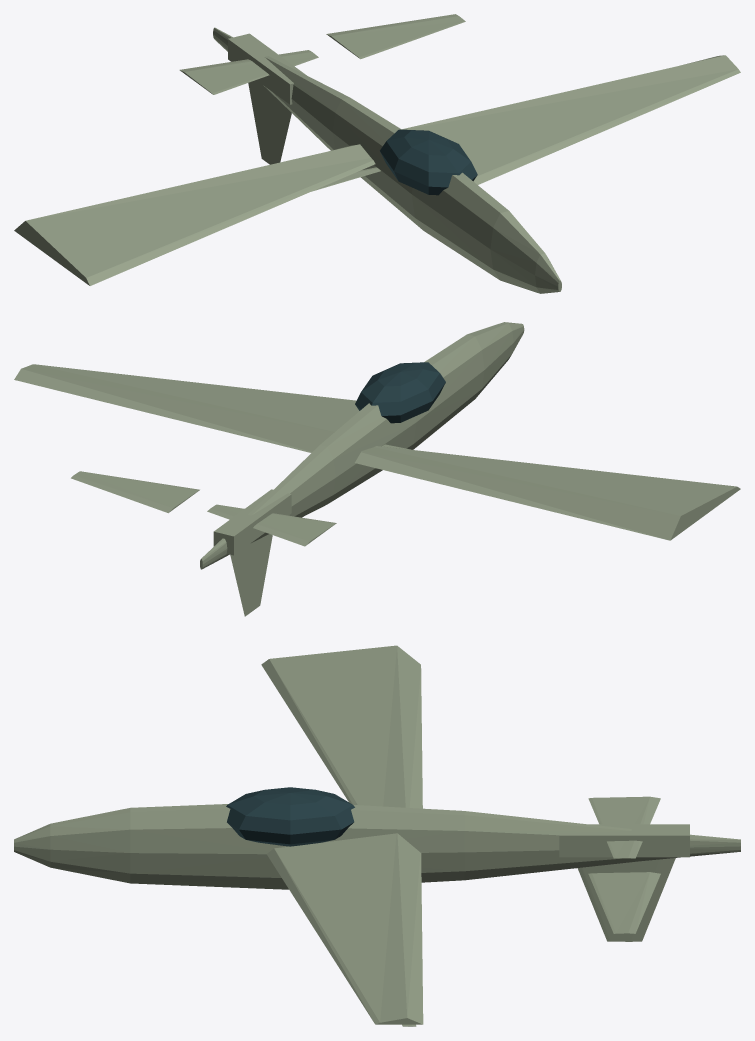
3 renders of one model, top to bottom at view 1: azimuth 30°, elevation 25°; view 2: azimuth 150°, elevation 25°; view 3: azimuth 270°, elevation 25°, orthographic. The views are drawn at different scales.
Visible parts, largest first — view 1: Wing_L, Fuselage, Wing_R, Cockpit, Elevator_R, Rudder, Elevator_L, TailBoom; view 2: Wing_L, Fuselage, Wing_R, Cockpit, Elevator_R, Rudder, TailBoom, Elevator_L; view 3: Fuselage, Wing_R, Wing_L, Cockpit, TailBoom, Elevator_R, Rudder, Elevator_L.
Boxes of the visible parts, x1,y1,x2,y2 form: Wing_L: [14, 144, 375, 285]; Fuselage: [213, 27, 561, 293]; Wing_R: [402, 55, 740, 184]; Cockpit: [380, 129, 477, 195]; Elevator_R: [326, 14, 465, 59]; Rudder: [248, 80, 291, 164]; Elevator_L: [179, 50, 318, 94]; TailBoom: [228, 33, 306, 104]; Wing_L: [355, 446, 740, 540]; Fuselage: [200, 322, 524, 569]; Wing_R: [14, 364, 359, 452]; Cockpit: [355, 362, 445, 423]; Elevator_R: [71, 471, 199, 513]; Rudder: [230, 534, 272, 616]; TailBoom: [213, 489, 291, 555]; Elevator_L: [207, 504, 336, 546]; Fuselage: [14, 804, 740, 889]; Wing_R: [266, 833, 423, 1024]; Wing_L: [261, 645, 422, 808]; Cockpit: [226, 787, 354, 846]; TailBoom: [559, 824, 689, 857]; Elevator_R: [588, 872, 660, 933]; Rudder: [577, 858, 675, 941]; Elevator_L: [588, 796, 660, 858].
Size of the model in its own units: 20.74 by 3.97 by 17.6.
